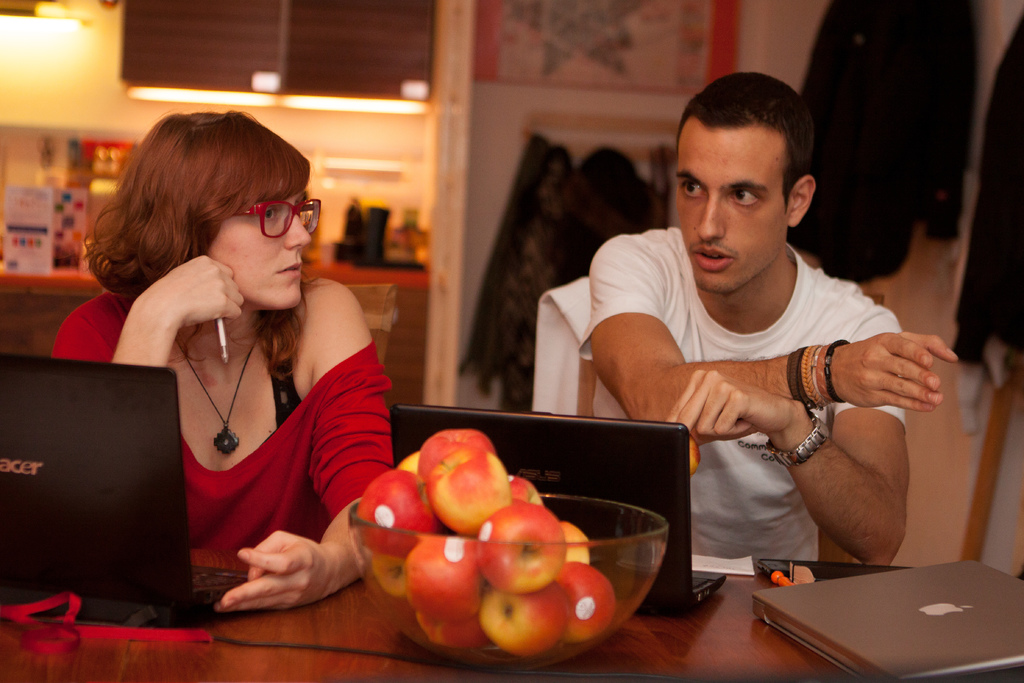Apple: (352, 427, 615, 659), (474, 501, 566, 591)
